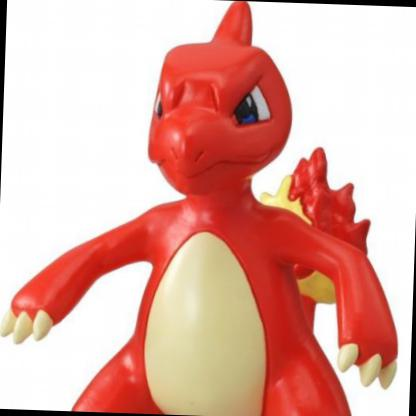Charmeleon: (51, 73, 416, 416)
